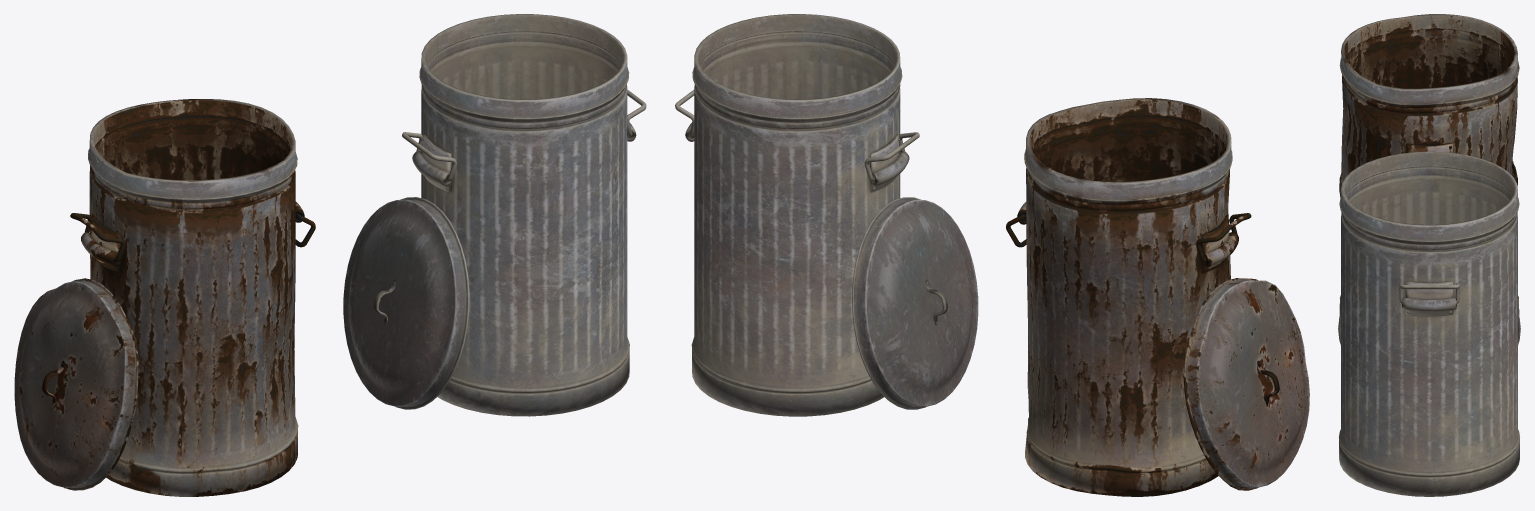
The model's file is trashcan.obj.
The picture shows the model from 3 angles, left to right: view 1: azimuth 30°, elevation 25°; view 2: azimuth 150°, elevation 25°; view 3: azimuth 270°, elevation 25°; orthographic projection. The views are drawn at different scales.
Visible parts, largest first — view 1: metal_trash_can, metal_trash_can_rust, metal_trash_can_lid, metal_trash_can_rust_lid; view 2: metal_trash_can, metal_trash_can_rust, metal_trash_can_lid, metal_trash_can_rust_lid; view 3: metal_trash_can, metal_trash_can_rust, metal_trash_can_handle_right.
Part boxes in pixels (x1,y1,x2,y2): metal_trash_can: (412, 14, 636, 416); metal_trash_can_rust: (81, 99, 304, 496); metal_trash_can_lid: (343, 197, 469, 409); metal_trash_can_rust_lid: (14, 278, 138, 490); metal_trash_can: (685, 14, 909, 416); metal_trash_can_rust: (1017, 98, 1238, 496); metal_trash_can_lid: (852, 197, 978, 409); metal_trash_can_rust_lid: (1183, 278, 1309, 490); metal_trash_can: (1338, 151, 1519, 496); metal_trash_can_rust: (1339, 14, 1519, 316); metal_trash_can_handle_right: (1399, 283, 1459, 303).
Size of the model in its own units: 1.78 by 0.9062 by 0.5563.
